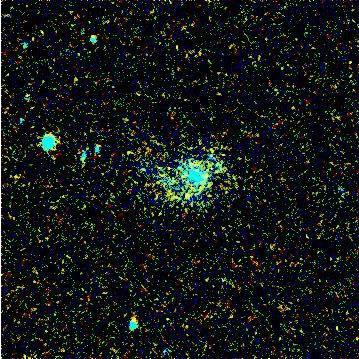star: (178, 180, 208, 210)
